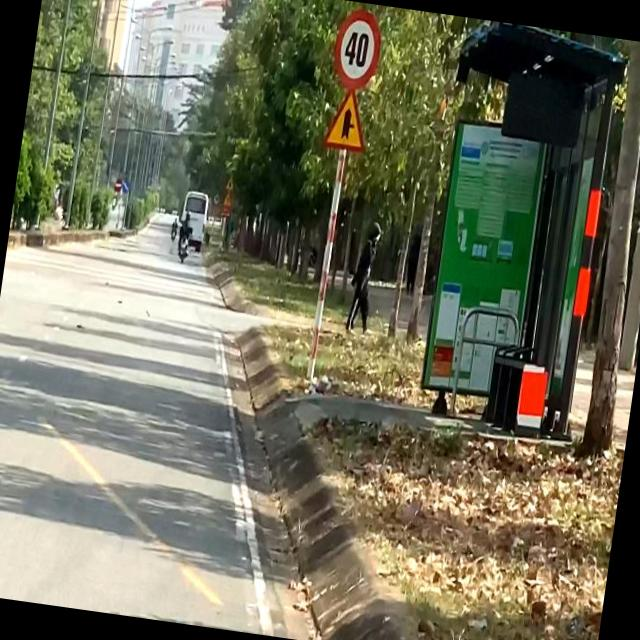P-127: (327, 2, 385, 94)
W-207b: (320, 88, 370, 151)
